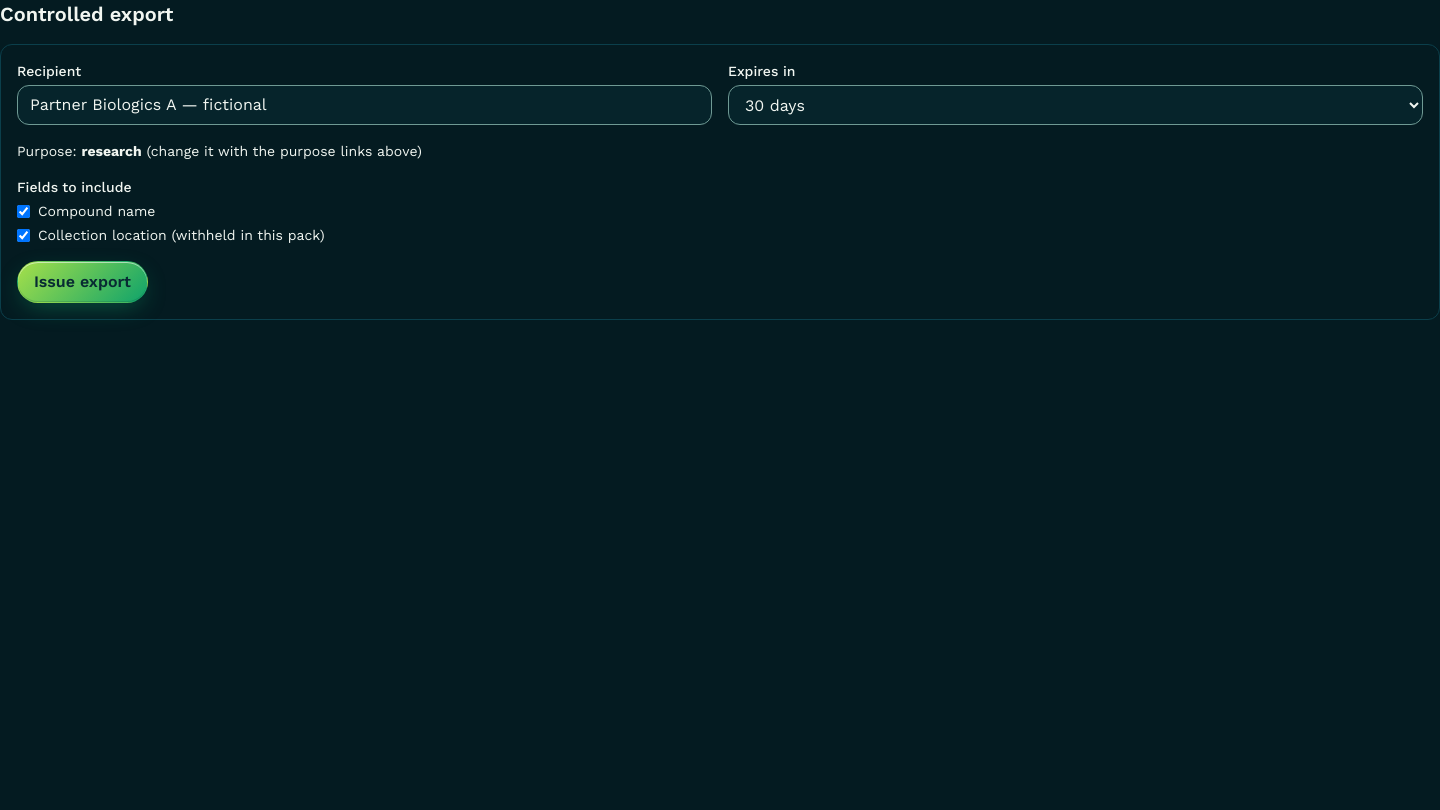
ExportForm › posts the default request: all fields omitted, stage, purpose and a UTC expiry of 30 days
What coordinates should you click on to do the following:
click the button "Issue export"
I would click on:
 (82, 282)
Its box is x1=17 y1=261 x2=148 y2=303.
(page scrolled)
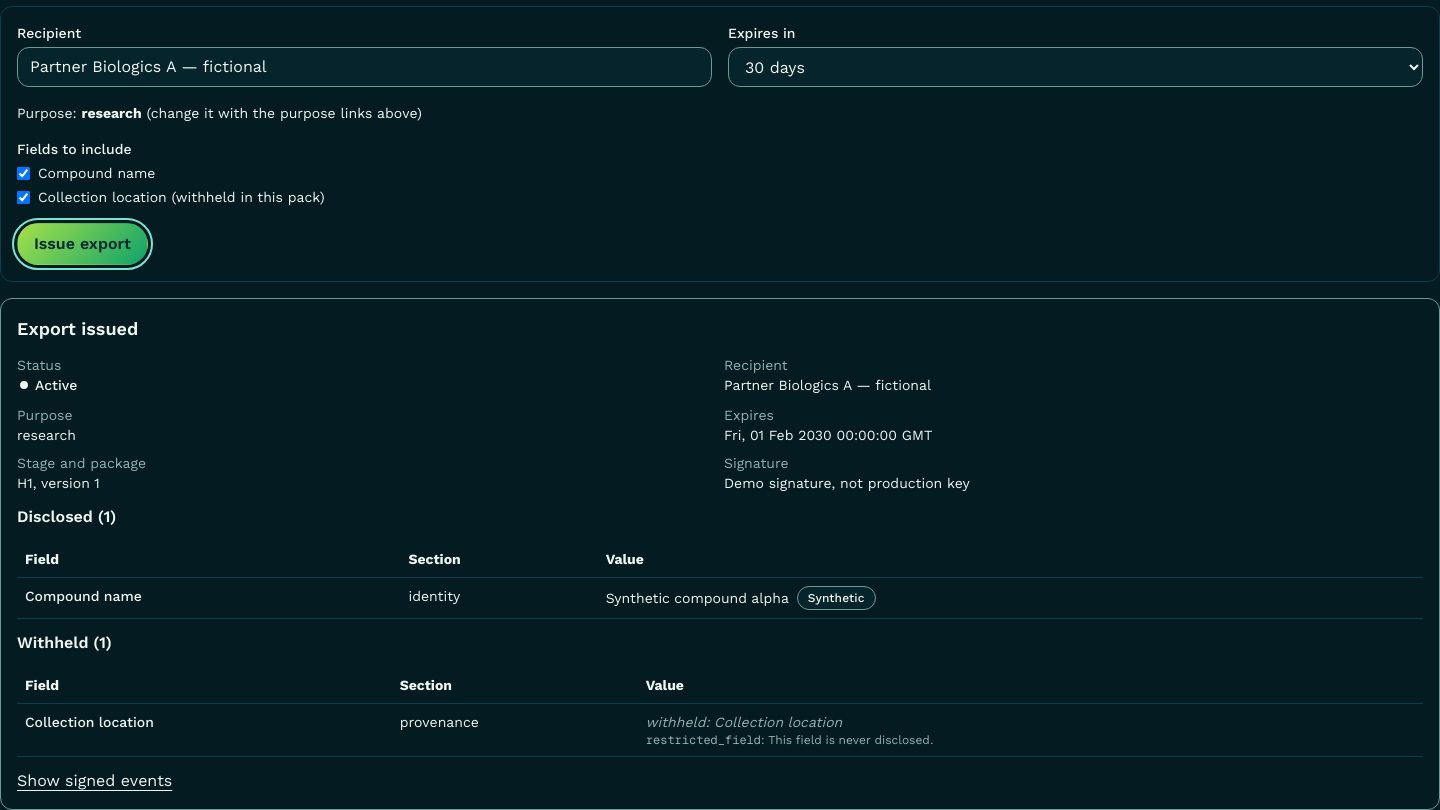
Check: the element "Export issued" is shown
